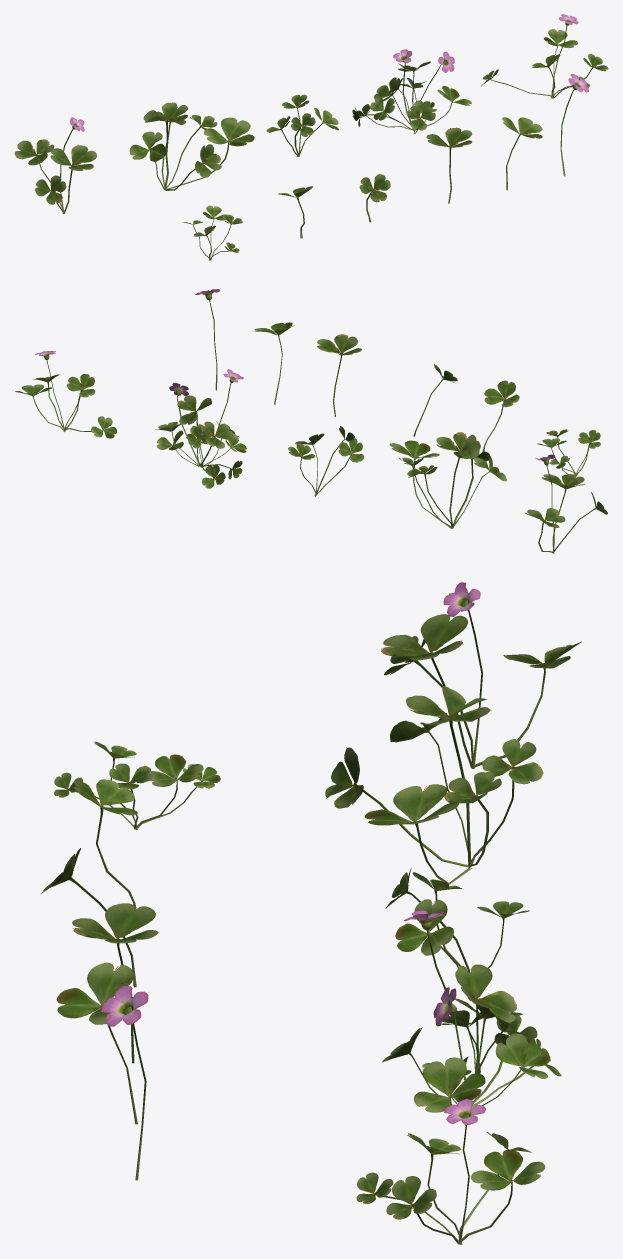
File: shrub-sorrel.glb
3 views of the same model, one above another, from view 1: azimuth 30°, elevation 25°; view 2: azimuth 150°, elevation 25°; view 3: azimuth 270°, elevation 25° (orthographic). The views are drawn at different scales.
Visible parts, largest first — view 1: shrub_sorrel_01_b, shrub_sorrel_01_d, shrub_sorrel_01_a, shrub_sorrel_01_e, shrub_sorrel_01_c, shrub_sorrel_01_f, shrub_sorrel_01_i, shrub_sorrel_01_h, shrub_sorrel_01_j, shrub_sorrel_01_k; view 2: shrub_sorrel_01_d, shrub_sorrel_01_b, shrub_sorrel_01_e, shrub_sorrel_01_a, shrub_sorrel_01_c, shrub_sorrel_01_f, shrub_sorrel_01_i, shrub_sorrel_01_g, shrub_sorrel_01_j; view 3: shrub_sorrel_01_b, shrub_sorrel_01_d, shrub_sorrel_01_e, shrub_sorrel_01_a, shrub_sorrel_01_f, shrub_sorrel_01_c, shrub_sorrel_01_j, shrub_sorrel_01_i, shrub_sorrel_01_k, shrub_sorrel_01_g.
Boxes of the visible parts, x1=… form: shrub_sorrel_01_b: x1=129, y1=102, x2=254, y2=190; shrub_sorrel_01_d: x1=352, y1=49, x2=471, y2=133; shrub_sorrel_01_a: x1=14, y1=117, x2=96, y2=213; shrub_sorrel_01_e: x1=481, y1=14, x2=608, y2=98; shrub_sorrel_01_c: x1=266, y1=94, x2=338, y2=156; shrub_sorrel_01_f: x1=182, y1=205, x2=242, y2=260; shrub_sorrel_01_i: x1=426, y1=127, x2=472, y2=203; shrub_sorrel_01_h: x1=359, y1=174, x2=390, y2=222; shrub_sorrel_01_j: x1=502, y1=117, x2=542, y2=190; shrub_sorrel_01_k: x1=560, y1=74, x2=588, y2=176; shrub_sorrel_01_d: x1=155, y1=369, x2=246, y2=488; shrub_sorrel_01_b: x1=389, y1=432, x2=506, y2=528; shrub_sorrel_01_e: x1=15, y1=351, x2=116, y2=438; shrub_sorrel_01_a: x1=525, y1=454, x2=607, y2=553; shrub_sorrel_01_c: x1=288, y1=426, x2=364, y2=496; shrub_sorrel_01_f: x1=537, y1=429, x2=600, y2=476; shrub_sorrel_01_i: x1=317, y1=334, x2=361, y2=416; shrub_sorrel_01_g: x1=482, y1=380, x2=519, y2=452; shrub_sorrel_01_j: x1=254, y1=322, x2=294, y2=404; shrub_sorrel_01_b: x1=325, y1=686, x2=543, y2=884; shrub_sorrel_01_d: x1=382, y1=910, x2=561, y2=1112; shrub_sorrel_01_e: x1=356, y1=1099, x2=545, y2=1244; shrub_sorrel_01_a: x1=381, y1=582, x2=581, y2=768; shrub_sorrel_01_f: x1=54, y1=741, x2=220, y2=829; shrub_sorrel_01_c: x1=385, y1=868, x2=529, y2=973; shrub_sorrel_01_j: x1=56, y1=962, x2=137, y2=1124; shrub_sorrel_01_i: x1=72, y1=903, x2=158, y2=1063; shrub_sorrel_01_k: x1=101, y1=985, x2=148, y2=1180; shrub_sorrel_01_g: x1=73, y1=779, x2=137, y2=910.
Size of the model in its own units: 0.3521 by 0.058 by 0.1464.
Materials: 1 (1 with a texture image).
